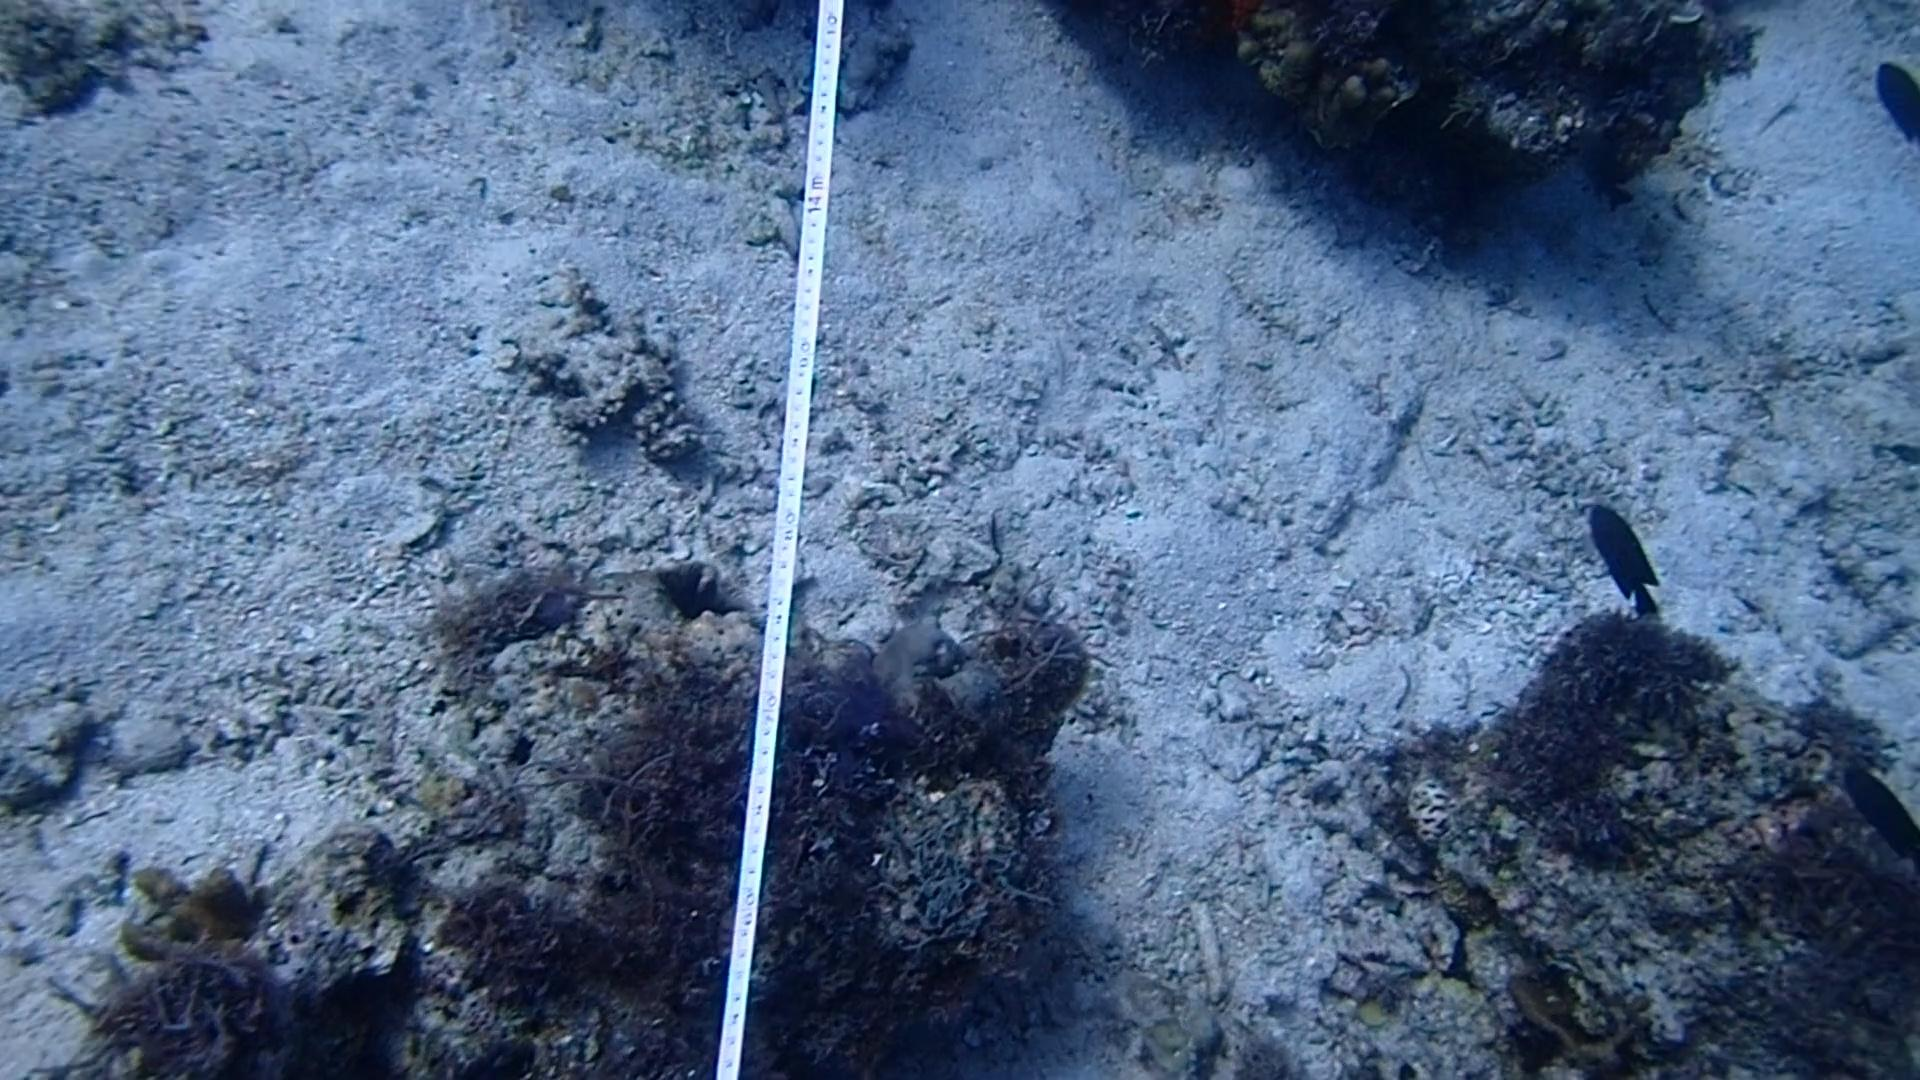Dark Fish: (1568, 491, 1676, 628), (1833, 754, 1920, 878), (1858, 55, 1920, 154)
